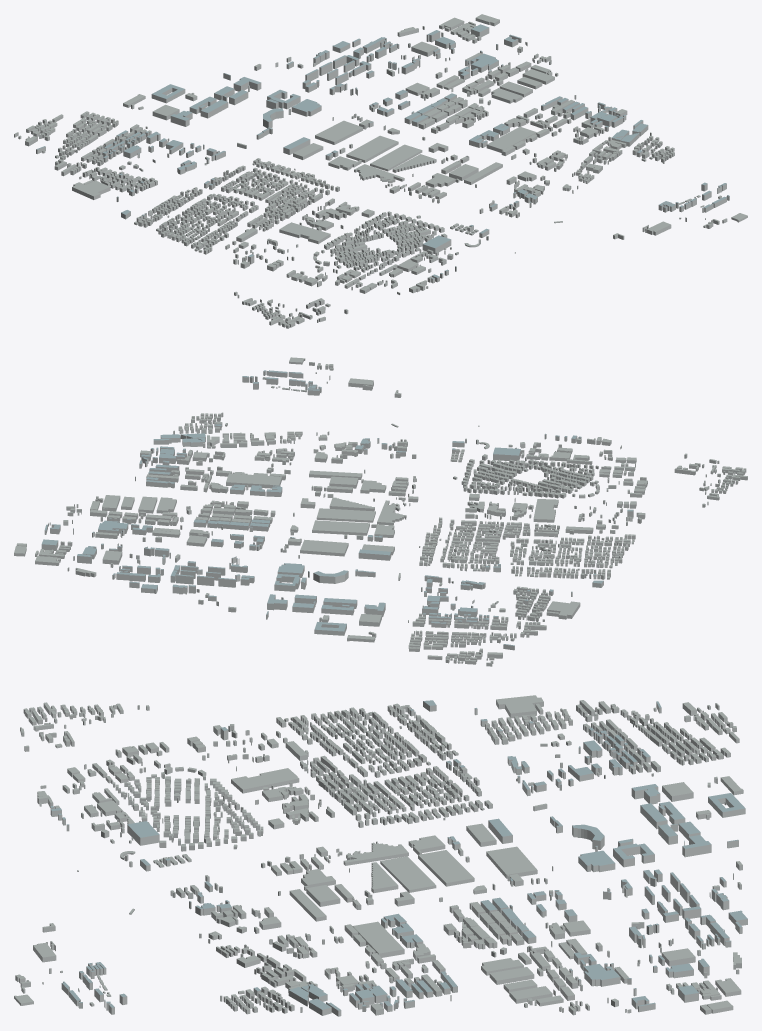
Rendered from far.glb.
The picture shows the model from 3 angles, top to bottom: view 1: azimuth 30°, elevation 25°; view 2: azimuth 150°, elevation 25°; view 3: azimuth 270°, elevation 25°; orthographic projection. The views are drawn at different scales.
Size of the model in its own units: 2178 by 34.6 by 2133.
